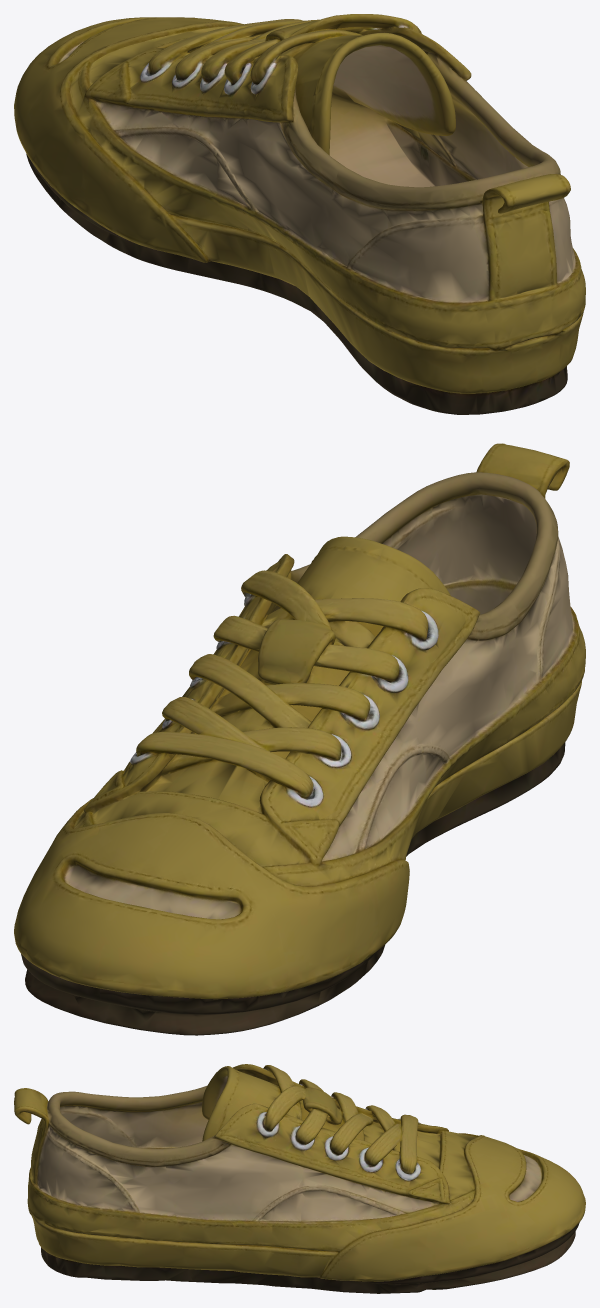
The model's file is mustard.glb.
3 views of the same model, one above another, from view 1: azimuth 30°, elevation 25°; view 2: azimuth 150°, elevation 25°; view 3: azimuth 270°, elevation 25° (orthographic). The views are drawn at different scales.
Visible parts, largest first — view 1: tripo_node_0920a8c9-cf05-439b-953d-6895ccbd10e6; view 2: tripo_node_0920a8c9-cf05-439b-953d-6895ccbd10e6; view 3: tripo_node_0920a8c9-cf05-439b-953d-6895ccbd10e6.
Part boxes in pixels (box(x1,y1,x2,y2)): tripo_node_0920a8c9-cf05-439b-953d-6895ccbd10e6: box(14, 14, 585, 414); tripo_node_0920a8c9-cf05-439b-953d-6895ccbd10e6: box(14, 443, 585, 1035); tripo_node_0920a8c9-cf05-439b-953d-6895ccbd10e6: box(14, 1064, 585, 1293).
Bounding box in the file's own units: 0.3871 × 0.3509 × 0.9999.
1 material, 1 textured.
